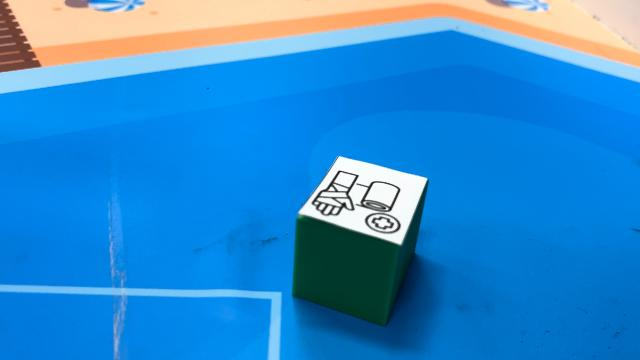bandage: (292, 154, 430, 326)
